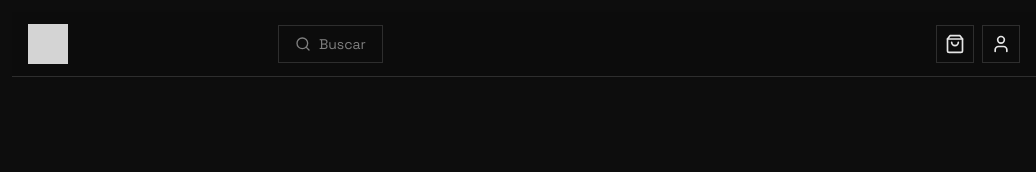
Header search › navega para /buscar ao apertar Enter
Click the button "Buscar" at coordinates (330, 44), box [278,25,383,63]
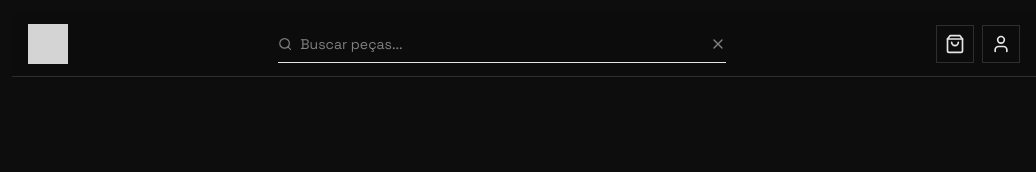
Type "qualquer" into the field with placeholder "Buscar peças..." at coordinates (501, 44), box [300,26,702,62]
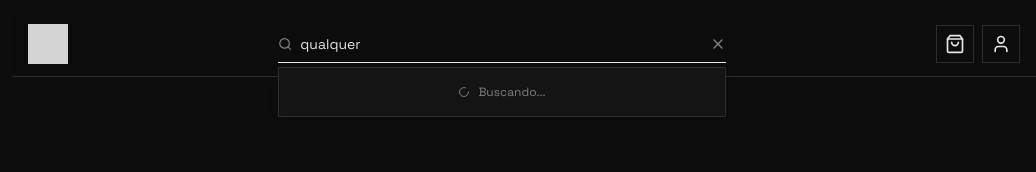
Press Enter in the field with placeholder "Buscar peças...", box [300,26,702,62]
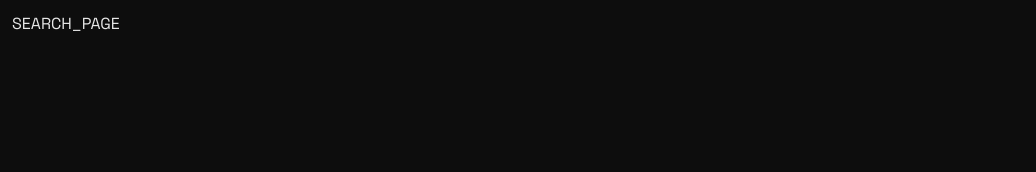
Now the text "SEARCH_PAGE" is shown, box [12,13,120,34]
